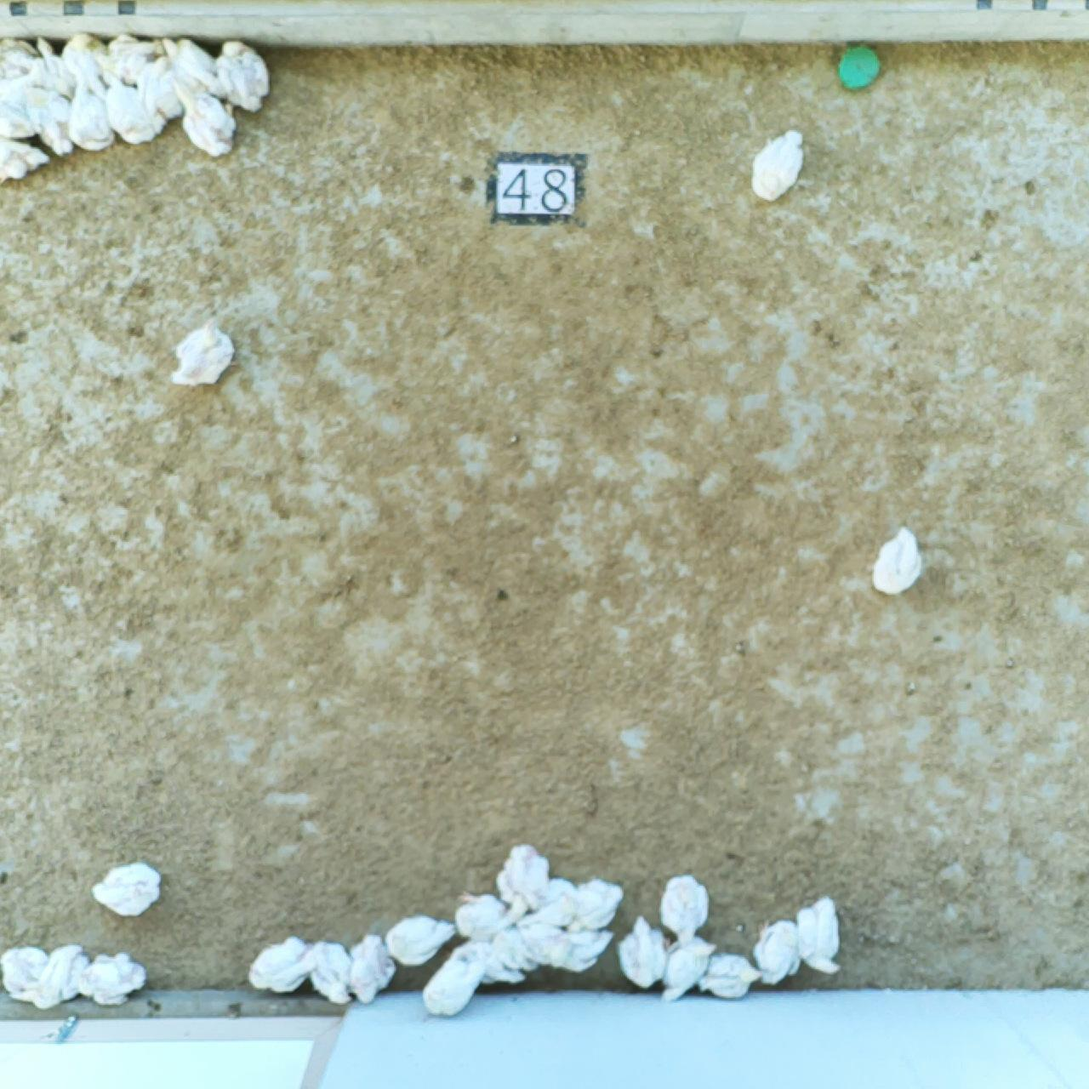chicken: (162, 313, 247, 391), (167, 78, 241, 161), (211, 37, 280, 117), (865, 519, 931, 602), (794, 891, 853, 983), (748, 122, 810, 206), (87, 855, 168, 919), (77, 944, 152, 1011), (246, 933, 321, 999), (617, 912, 676, 995), (657, 931, 722, 1005), (656, 869, 718, 942), (493, 833, 553, 908), (383, 913, 460, 971), (30, 938, 88, 1014), (158, 30, 225, 95), (68, 76, 124, 153), (345, 927, 399, 1003), (106, 70, 160, 145), (426, 945, 483, 1016), (26, 80, 80, 154), (753, 913, 808, 984), (0, 942, 58, 1007), (546, 925, 614, 979), (132, 53, 184, 121), (103, 29, 165, 85), (698, 951, 763, 1003), (523, 874, 579, 931), (568, 875, 626, 930), (60, 27, 111, 85), (0, 128, 48, 183), (450, 890, 507, 935), (0, 73, 40, 135), (28, 34, 70, 89), (492, 914, 536, 964), (475, 945, 528, 985), (520, 918, 562, 964), (0, 35, 33, 76)
